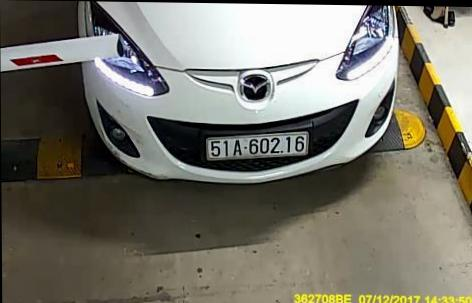License_Plate: (203, 129, 308, 162)
